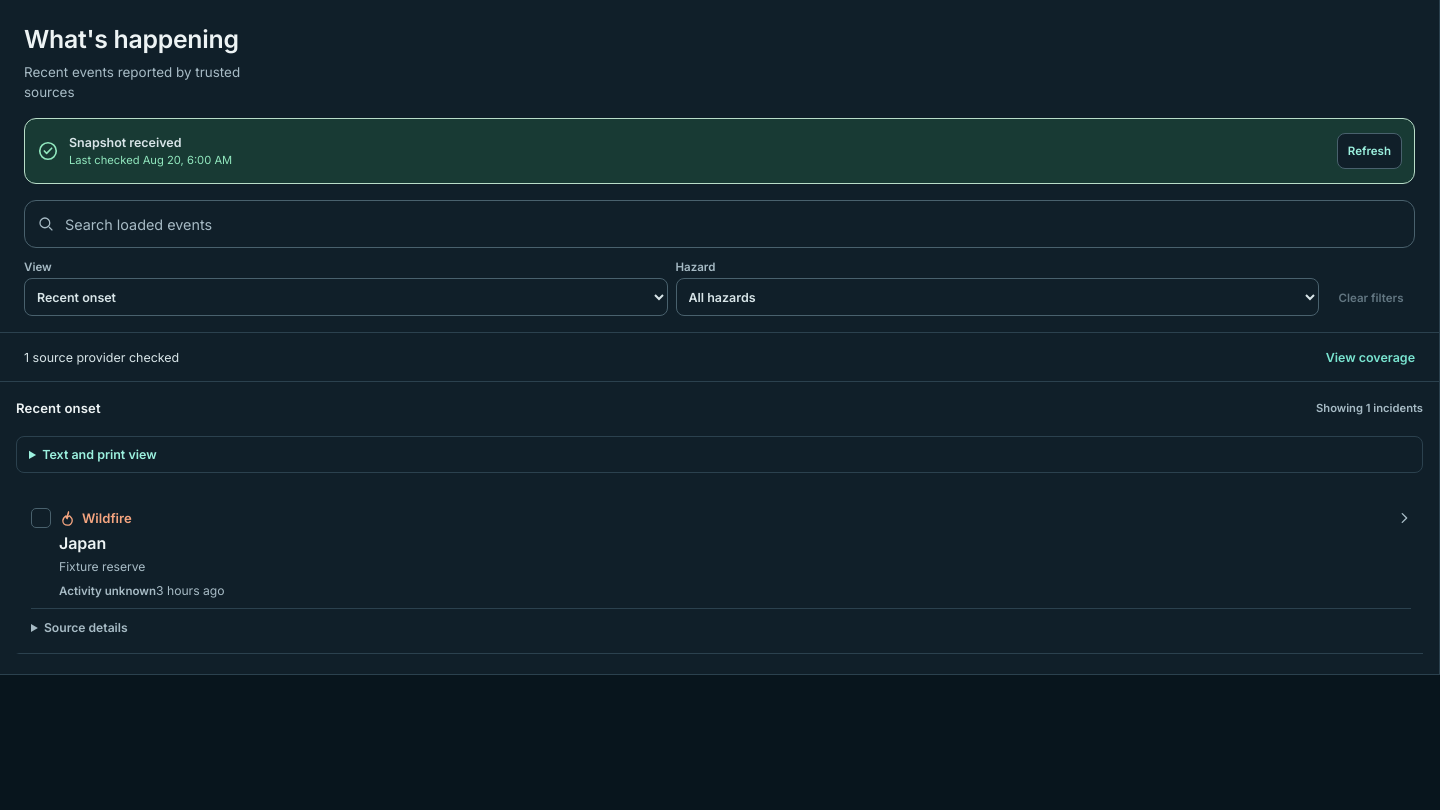
it: ActiveIncidentsPanel › provides a text-first incident representation for low vision and print
Click the heading "Text and print view".
click(99, 455)  # box 42,447 -> 157,462
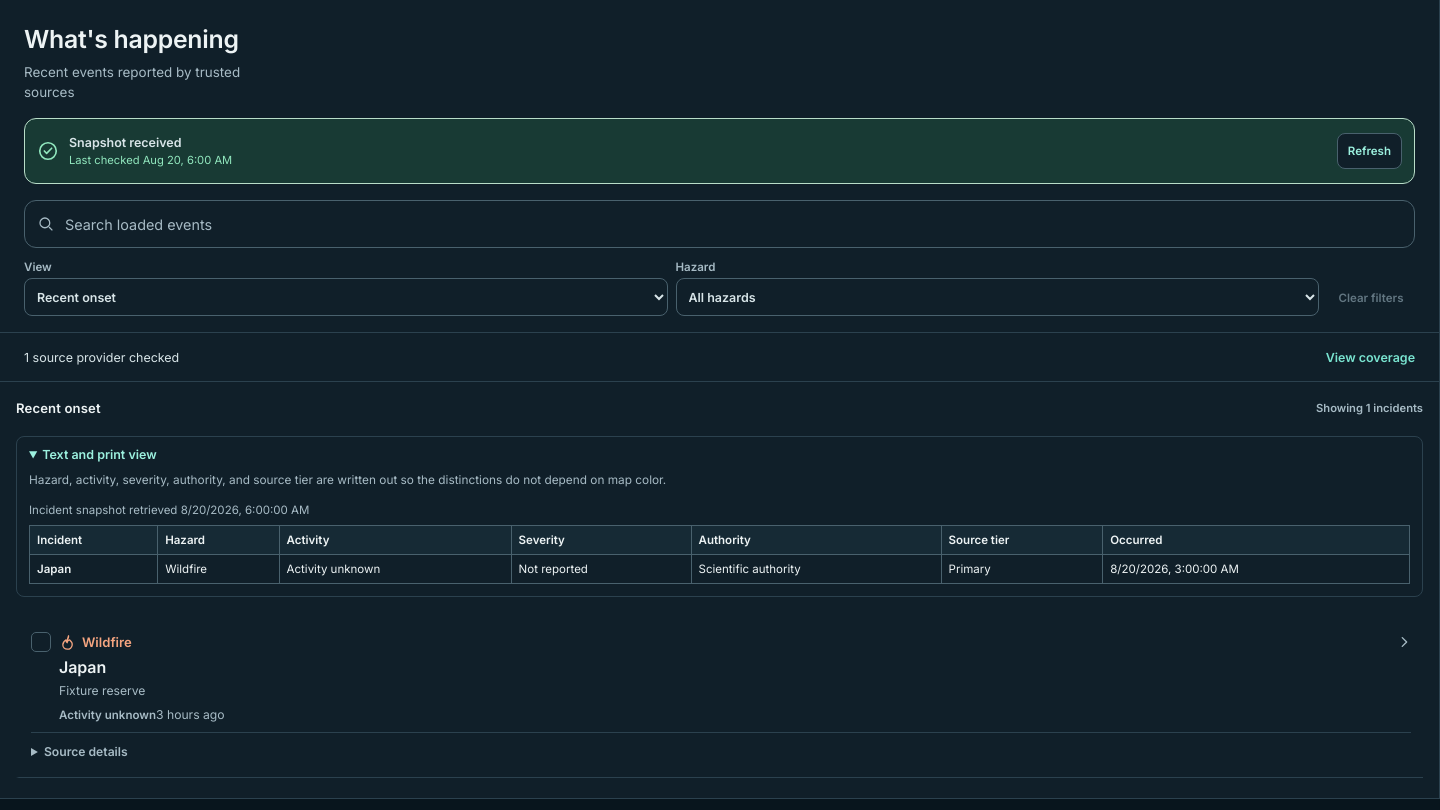
Expected: the text "Wildfire" is shown, 158,555 -> 279,584
Expected: the text "Scientific authority" is shown, 691,555 -> 941,584
Expected: the text "Primary" is shown, 941,555 -> 1103,584
